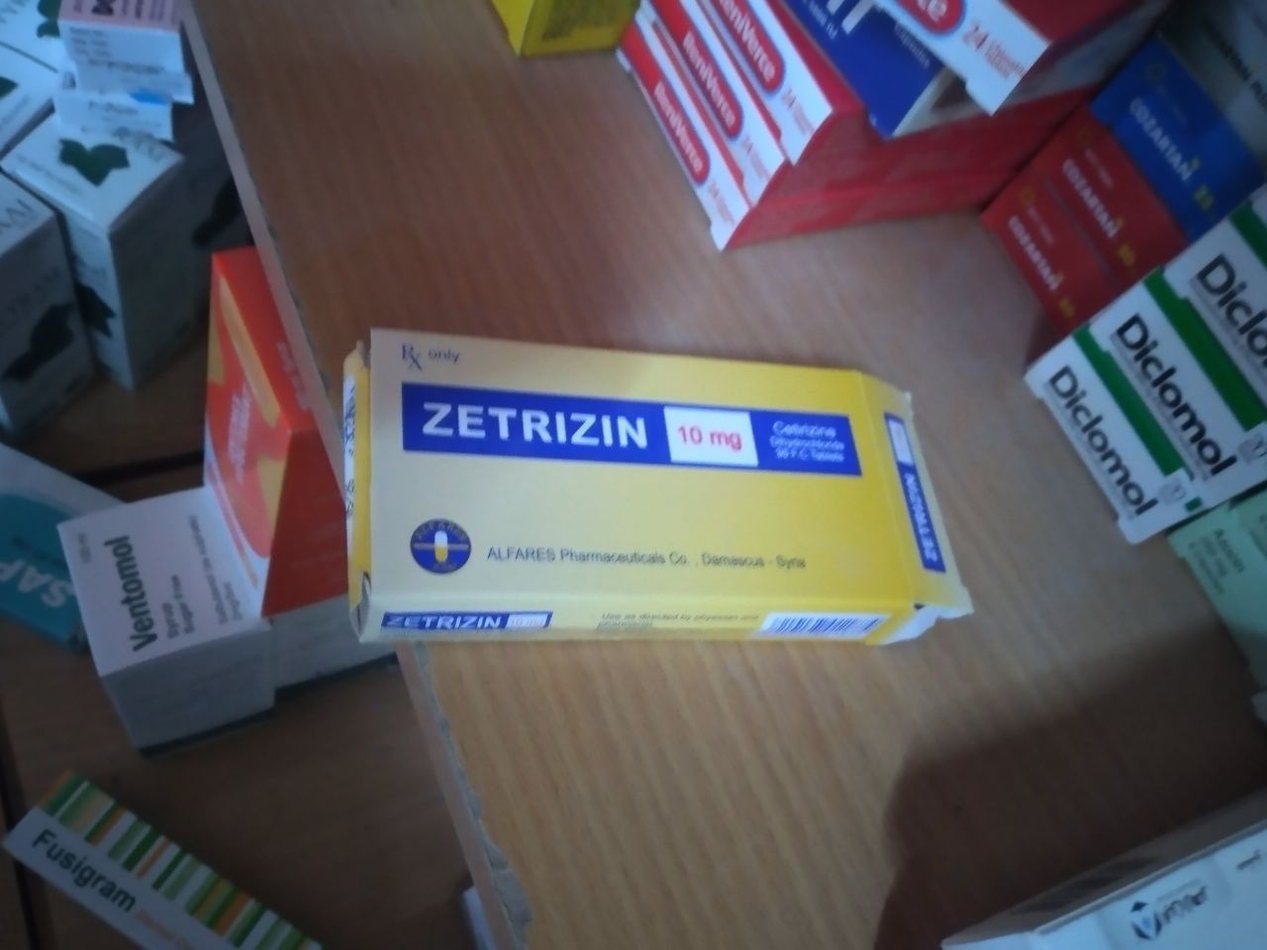Medicine: (354, 312, 943, 673), (195, 250, 356, 708), (57, 500, 270, 767), (0, 198, 116, 450)
